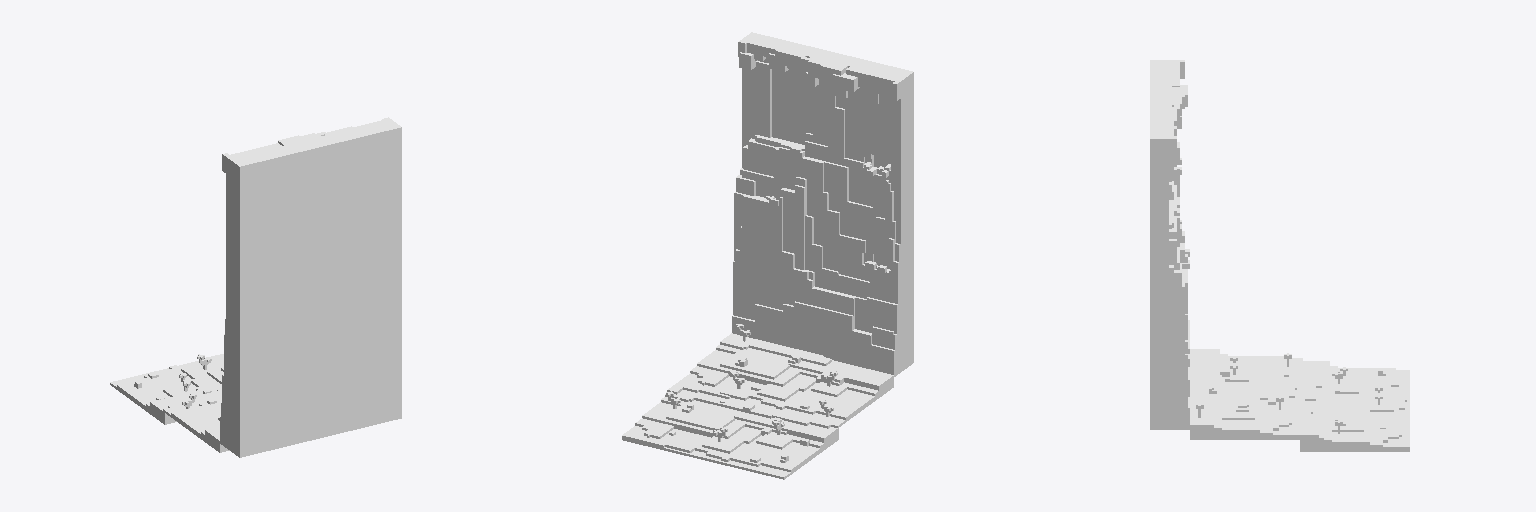
The model's file is meadow_with_flowers.obj.
3 views of the same model, side by side, from view 1: azimuth 30°, elevation 25°; view 2: azimuth 150°, elevation 25°; view 3: azimuth 270°, elevation 25° (orthographic).
Visible parts, largest first — view 1: object 1; view 2: object 1; view 3: object 1.
Boxes of the visible parts, <box> form: object 1: <box>110,117,401,457</box>; object 1: <box>622,32,913,479</box>; object 1: <box>1150,60,1409,451</box>.
Bounding box in the file's own units: 7 × 12.9 × 9.7.